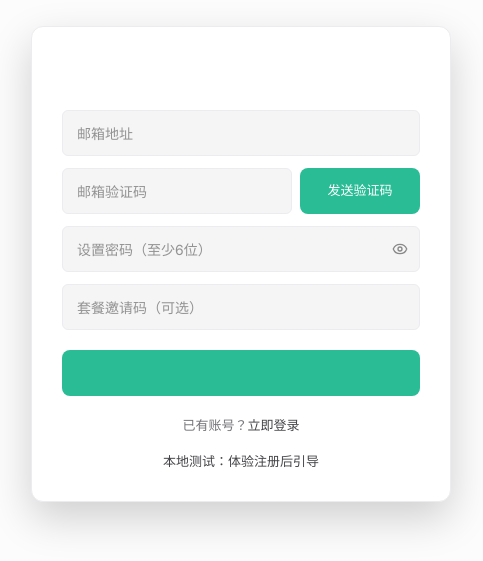
registration verification request › waits the server retry window instead of the default countdown after a 429
This screenshot has width=483, height=561.
Type "review@example.com" into the field with placeholder "邮箱地址" at (241, 133), box 62,110 -> 420,156
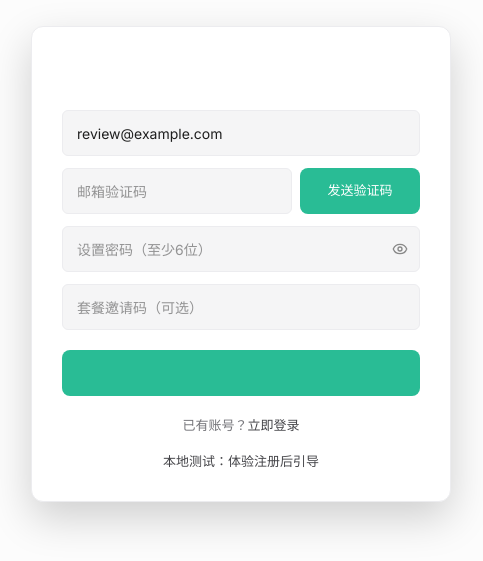
Click the button "发送验证码" at (360, 191), box 300,168 -> 420,214
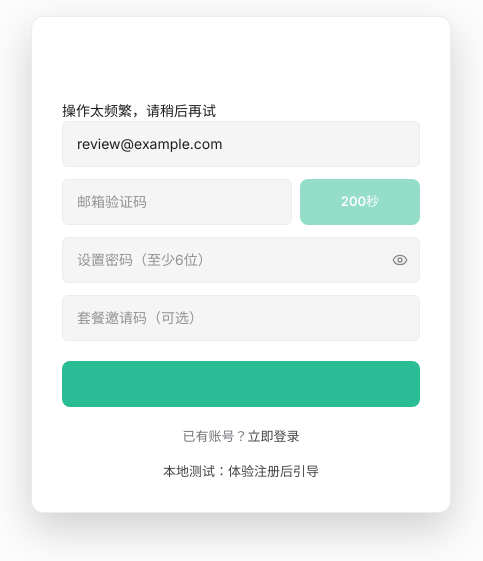
Check: the text "操作太频繁" is shown, box 62,102 -> 216,118
Check: the button "200秒" is disabled, box 300,178 -> 420,224
Check: the button "200秒" is shown, box 300,178 -> 420,224
